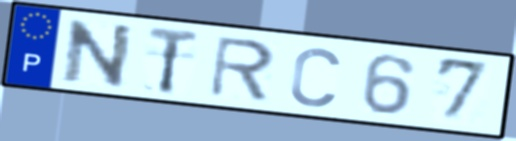6: (361, 52, 418, 117)
7: (432, 54, 495, 127)
C: (287, 44, 344, 110)
N: (61, 17, 137, 90)
R: (206, 34, 278, 104)
T: (145, 24, 202, 96)
